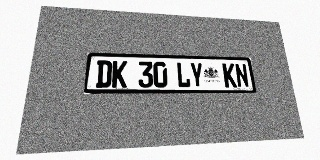0: (153, 62, 167, 88)
3: (138, 61, 153, 88)
D: (95, 60, 112, 88)
K: (111, 61, 127, 88), (222, 63, 237, 88)
L: (176, 62, 191, 88)
N: (234, 63, 249, 88)
Y: (189, 62, 204, 88)
